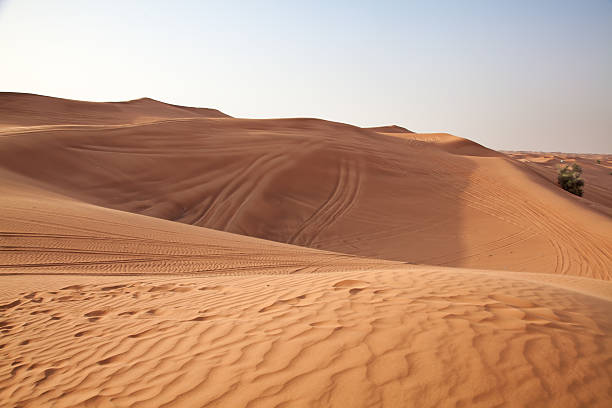vehicle_track: (440, 168, 611, 278), (464, 174, 610, 277), (190, 141, 316, 229), (463, 174, 566, 272), (223, 140, 318, 230), (191, 152, 283, 228), (288, 159, 360, 245), (0, 231, 230, 257), (421, 229, 537, 265)
